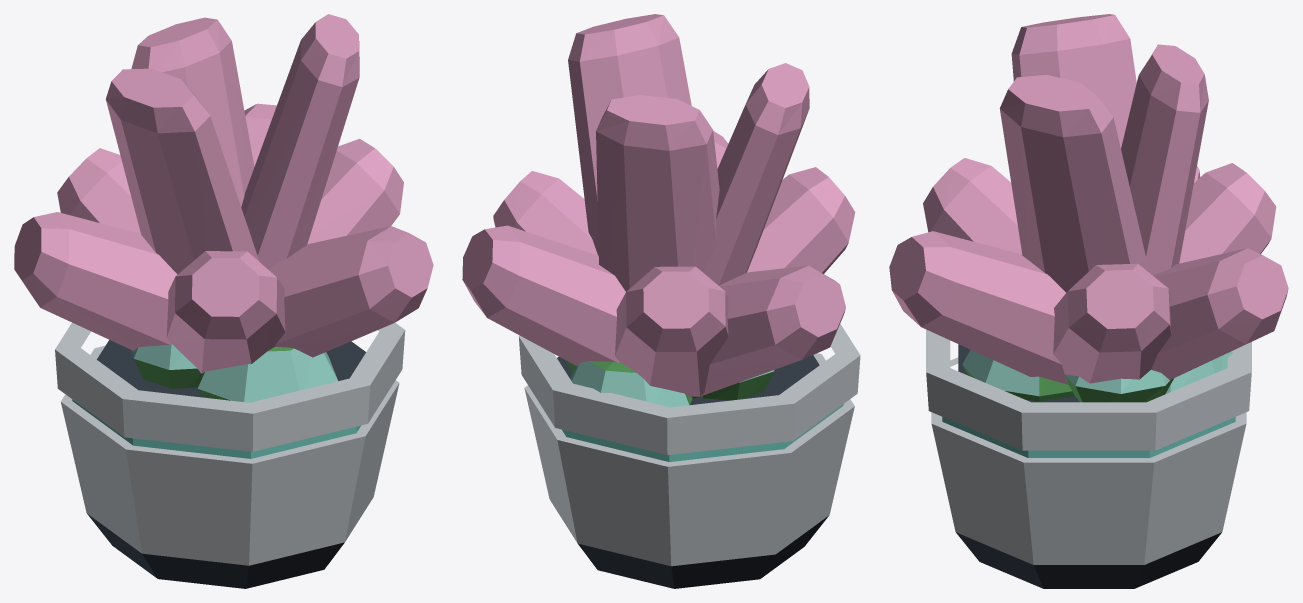
Rendered from pastel-flowering-plant-d16a03.glb.
The picture shows the model from 3 angles, left to right: view 1: azimuth 30°, elevation 25°; view 2: azimuth 150°, elevation 25°; view 3: azimuth 270°, elevation 25°; orthographic projection. The views are drawn at different scales.
Parts seen in each view (by area): view 1: foliage-mesh, pot; view 2: foliage-mesh, pot; view 3: foliage-mesh, pot.
Boxes of the visible parts, bbox=[...] form: foliage-mesh: bbox=[14, 14, 433, 402]; pot: bbox=[55, 322, 405, 588]; foliage-mesh: bbox=[462, 14, 855, 407]; pot: bbox=[518, 323, 860, 588]; foliage-mesh: bbox=[889, 14, 1288, 402]; pot: bbox=[926, 329, 1251, 588].
Size of the model in its own units: 0.2863 by 0.3814 by 0.2764.
